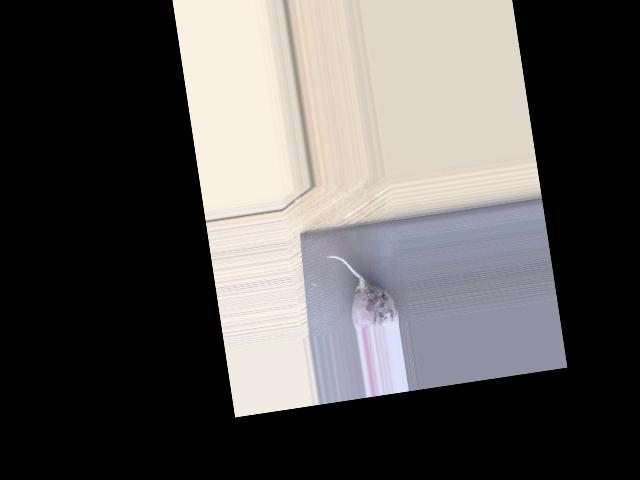beet: (327, 246, 399, 332)
